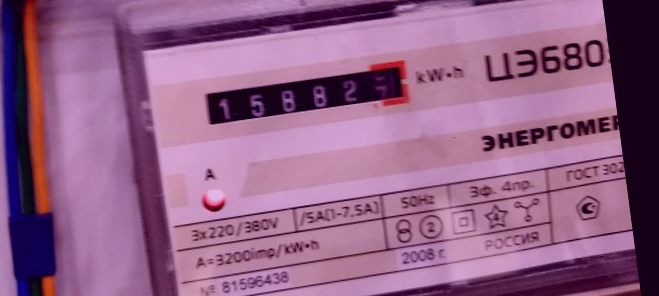1: (216, 95, 233, 122)
2: (340, 76, 359, 103)
5: (246, 91, 266, 118)
7: (372, 82, 388, 99)
8: (277, 87, 297, 113), (309, 81, 328, 108)
screen: (189, 51, 421, 140)
